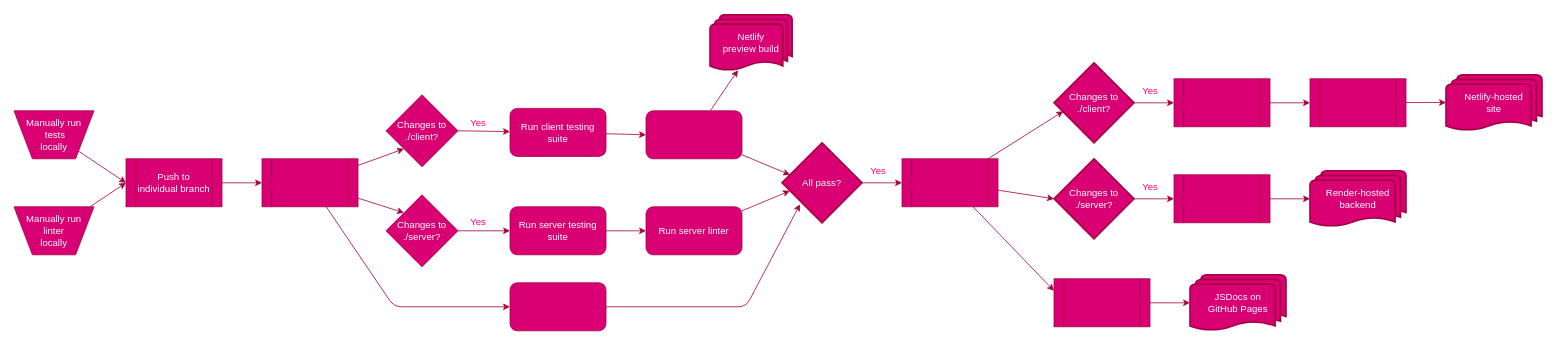
The diagram is 1557 pixels wide and 345 high, and some of its shapes have lost their labels. Each missing label, with the centre of its shape:
Build and deploy JSDocs to GitHub Pages: the point at 1101,302
Deploy Node.js backend to Render: the point at 1221,198
Deploy static client files to Netlify: the point at 1357,102
Merge PR to main branch: the point at 949,182
Minify JS and clean file structure: the point at 1221,102
Pull request to main branch: the point at 309,182
Run client linter: the point at 693,134
Verify JSDOC syntax: the point at 557,306
